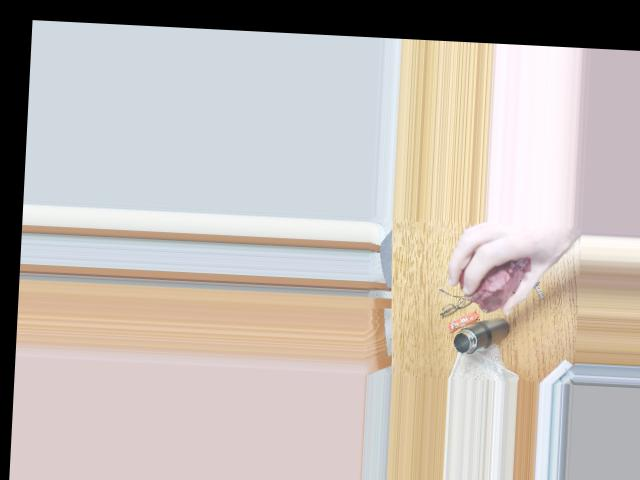onion: (459, 252, 530, 309)
